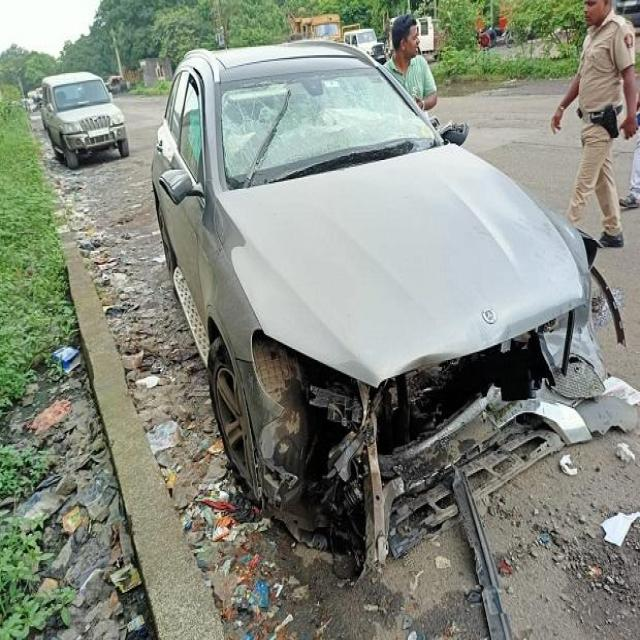crush: (237, 228, 640, 583)
